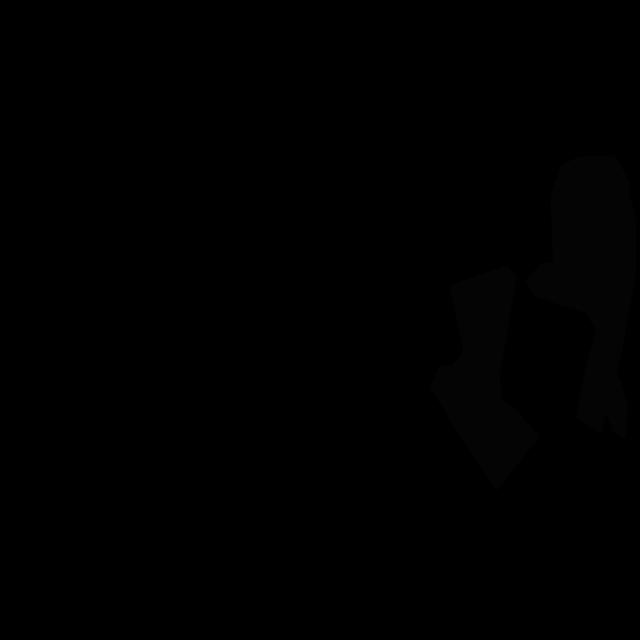soft_plastic: (526, 156, 636, 439), (429, 265, 540, 492)
